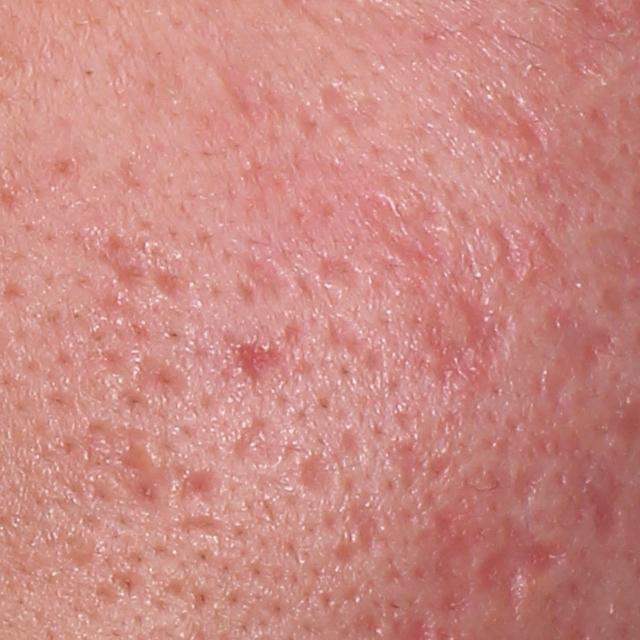atrophic_scar: (418, 510, 569, 627), (416, 282, 520, 393), (362, 188, 455, 298), (444, 80, 558, 164), (541, 301, 614, 404), (123, 445, 183, 519), (127, 342, 194, 408), (324, 314, 391, 377), (514, 431, 562, 510), (318, 80, 380, 139), (95, 230, 148, 298), (332, 499, 386, 563), (383, 439, 454, 487), (582, 469, 625, 548), (237, 333, 288, 396), (295, 449, 344, 506), (242, 250, 292, 305), (311, 253, 363, 296), (491, 225, 525, 289), (173, 507, 233, 536), (173, 465, 224, 497), (147, 266, 185, 304)
